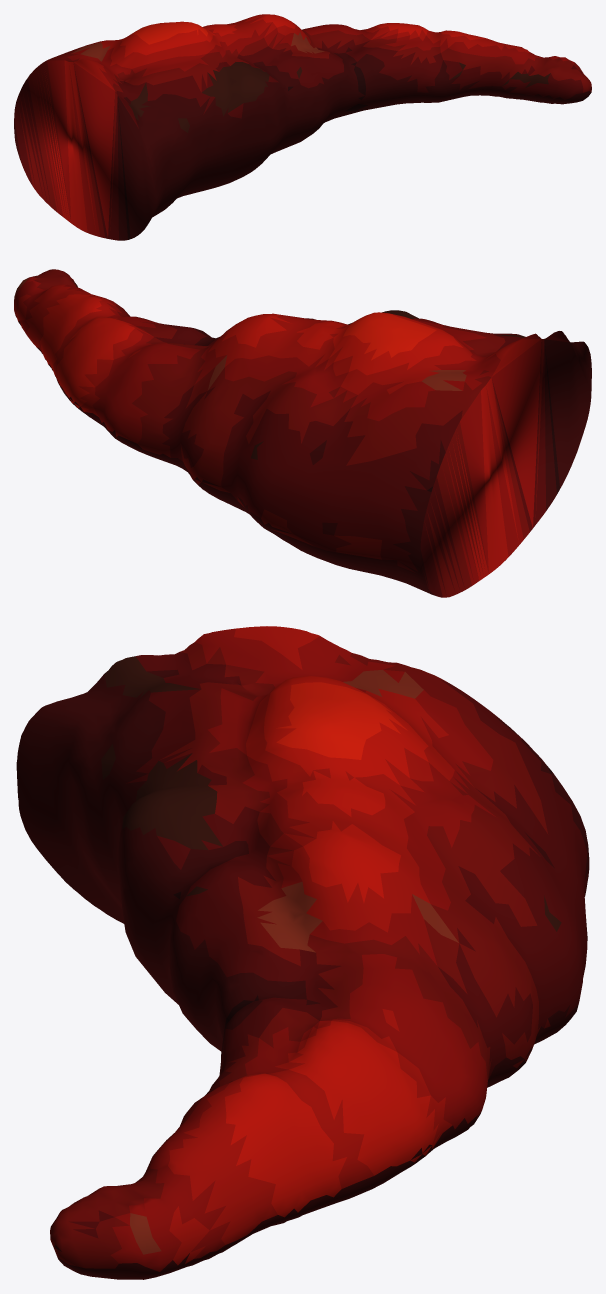
Rendered from red_mound_a_r.glb.
The picture shows the model from 3 angles, top to bottom: view 1: azimuth 30°, elevation 25°; view 2: azimuth 150°, elevation 25°; view 3: azimuth 270°, elevation 25°; orthographic projection. The views are drawn at different scales.
Visible parts, largest first — view 1: red_mound_a_r; view 2: red_mound_a_r; view 3: red_mound_a_r.
Boxes of the visible parts, x1=… form: red_mound_a_r: x1=14, y1=14, x2=591, y2=240; red_mound_a_r: x1=14, y1=269, x2=591, y2=597; red_mound_a_r: x1=16, y1=626, x2=589, y2=1279.
Size of the model in its own units: 22.75 by 8.73 by 12.49.
